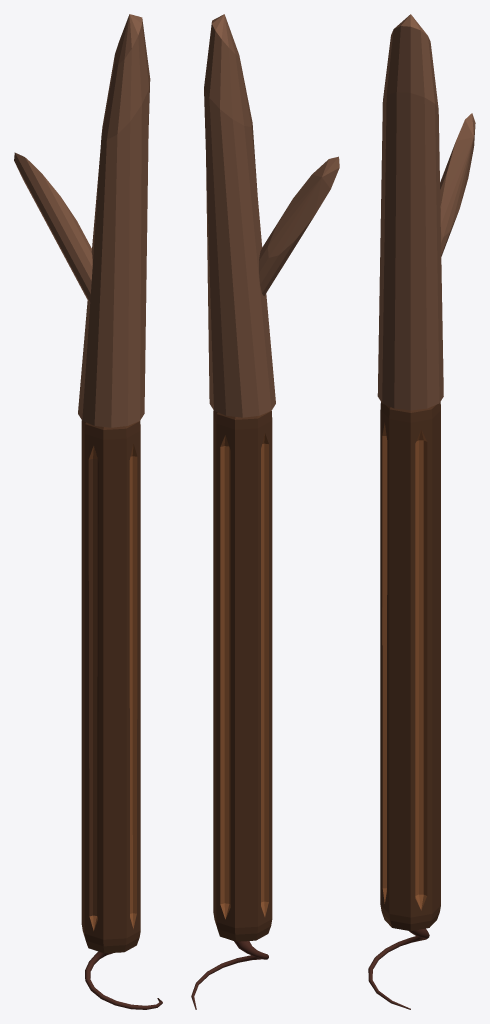
The model's file is Wand 569.glb.
3 renders of one model, left to right at view 1: azimuth 30°, elevation 25°; view 2: azimuth 210°, elevation 25°; view 3: azimuth 270°, elevation 25°, orthographic.
Visible parts, largest first — view 1: GeneratedWand; view 2: GeneratedWand; view 3: GeneratedWand.
Boxes of the visible parts, x1,y1,x2,y2 form: GeneratedWand: (14,14,162,1009); GeneratedWand: (191,14,339,1009); GeneratedWand: (368,14,475,1009).
Size of the model in its own units: 0.0615 by 0.5167 by 0.0511.
